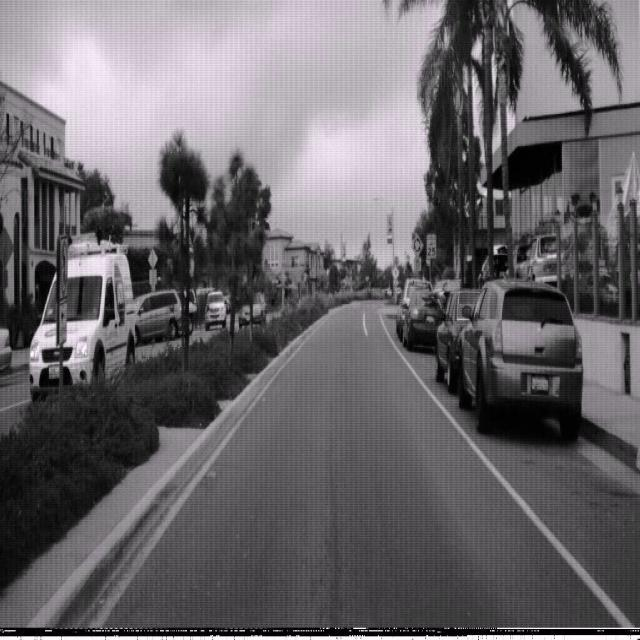speedLimit25: (426, 233, 436, 261)
